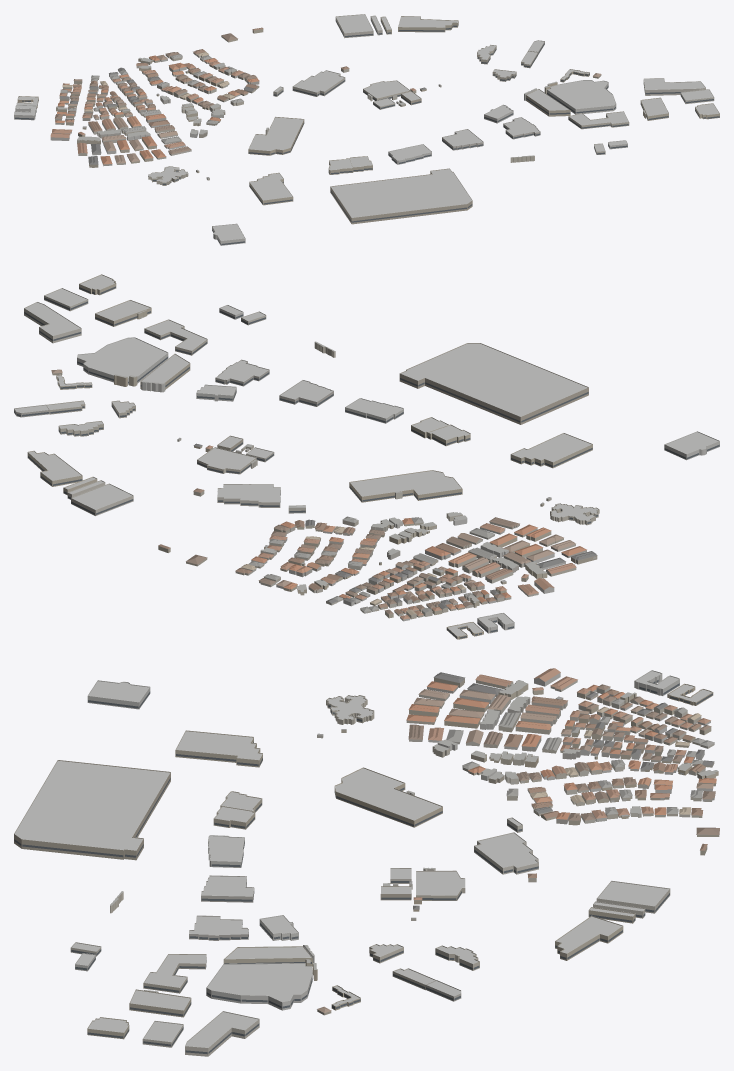
The model's file is buildings_r3_c5.glb.
The picture shows the model from 3 angles, top to bottom: view 1: azimuth 30°, elevation 25°; view 2: azimuth 150°, elevation 25°; view 3: azimuth 270°, elevation 25°; orthographic projection. The views are drawn at different scales.
Visible parts, largest first — view 1: buildings_r3_c5; view 2: buildings_r3_c5; view 3: buildings_r3_c5.
Part boxes in pixels (x1,y1,x2,y2): buildings_r3_c5: (14,14,719,245); buildings_r3_c5: (14,274,719,639); buildings_r3_c5: (14,668,719,1056).
Size of the model in its own units: 1175 by 39.27 by 891.
